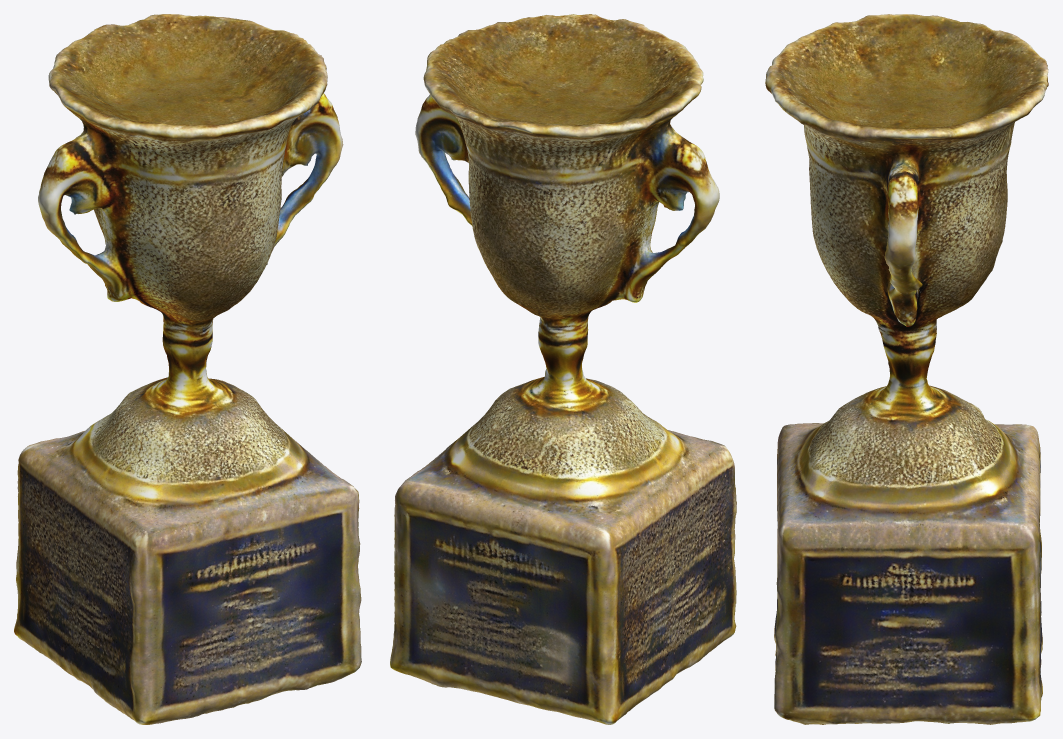
Rendered from trophy_3.glb.
3 views of the same model, side by side, from view 1: azimuth 30°, elevation 25°; view 2: azimuth 150°, elevation 25°; view 3: azimuth 270°, elevation 25° (orthographic). The views are drawn at different scales.
Parts seen in each view (by area): view 1: model_0; view 2: model_0; view 3: model_0.
Part boxes in pixels (<box>): model_0: <box>14,14,361,724</box>; model_0: <box>390,14,736,724</box>; model_0: <box>765,14,1048,724</box>.
Size of the model in its own units: 0.8762 by 1.67 by 0.7044.
1 material, 1 textured.
